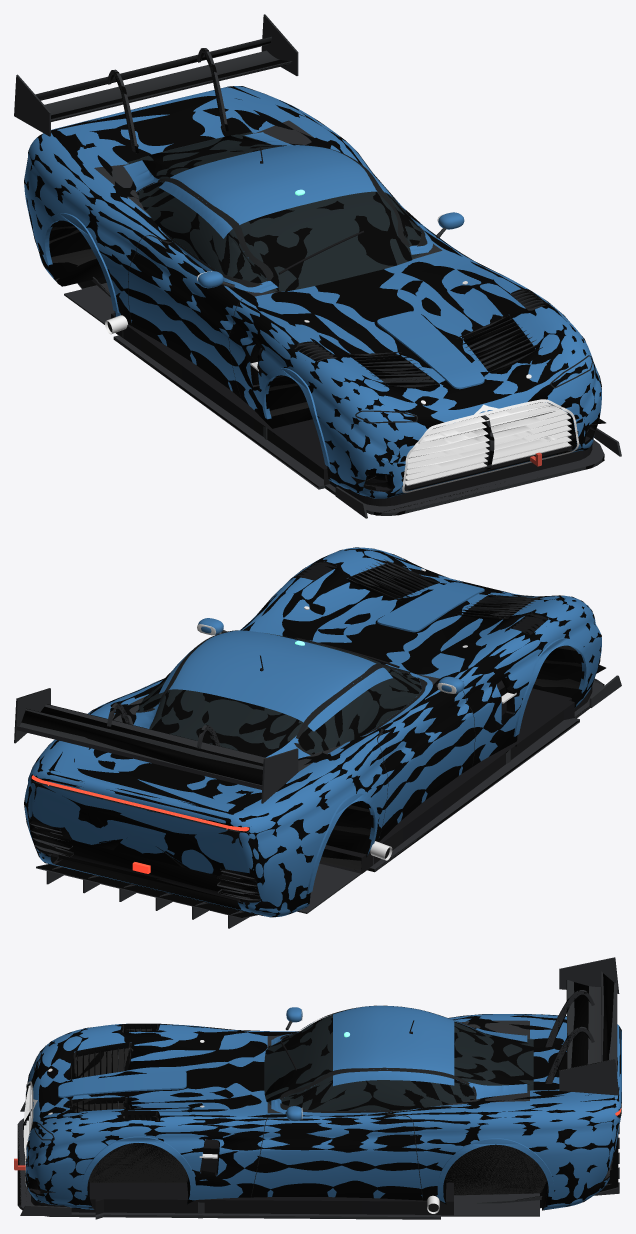
Rendered from aston.glb.
3 views of the same model, one above another, from view 1: azimuth 30°, elevation 25°; view 2: azimuth 150°, elevation 25°; view 3: azimuth 270°, elevation 25° (orthographic). The views are drawn at different scales.
Parts seen in each view (by area): view 1: Shadow, Body, Carbon, Paint, Cabin, Chrome, Grille, Trim; view 2: Shadow, Body, Paint, Carbon, Cabin, Grille, Trim, LightR, Chrome; view 3: Shadow, Body, Paint, Carbon, Cabin, Grille, Trim, Chrome.
Boxes of the visible parts, x1,y1,x2,y2 form: Shadow: (24, 15, 605, 515); Body: (24, 86, 601, 498); Carbon: (14, 14, 621, 518); Paint: (42, 132, 484, 467); Cabin: (127, 132, 422, 291); Chrome: (105, 212, 579, 492); Grille: (111, 146, 592, 506); Trim: (128, 145, 592, 423); Shadow: (15, 547, 605, 917); Body: (24, 547, 601, 917); Paint: (133, 582, 589, 893); Carbon: (14, 559, 621, 928); Cabin: (138, 633, 420, 753); Grille: (260, 637, 592, 873); Trim: (136, 556, 592, 838); LightR: (31, 775, 249, 873); Chrome: (197, 568, 531, 860); Shadow: (17, 973, 621, 1210); Body: (25, 1014, 621, 1209); Paint: (58, 1005, 554, 1196); Carbon: (17, 957, 619, 1219); Cabin: (264, 1014, 533, 1110); Grille: (31, 1020, 453, 1215); Trim: (34, 1005, 476, 1200); Chrome: (23, 1009, 439, 1213).
Bounding box in the file's own units: 2.13 × 1.36 × 4.73.
